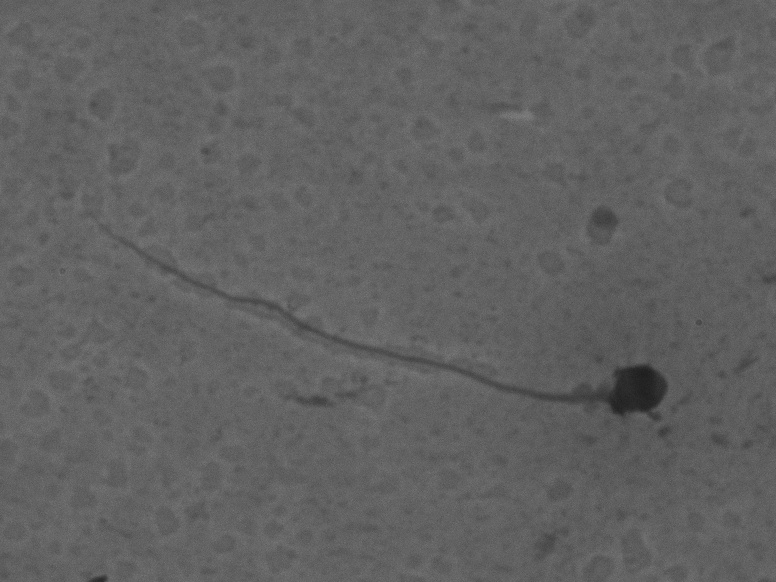Abnormal: (80, 170, 707, 439)
